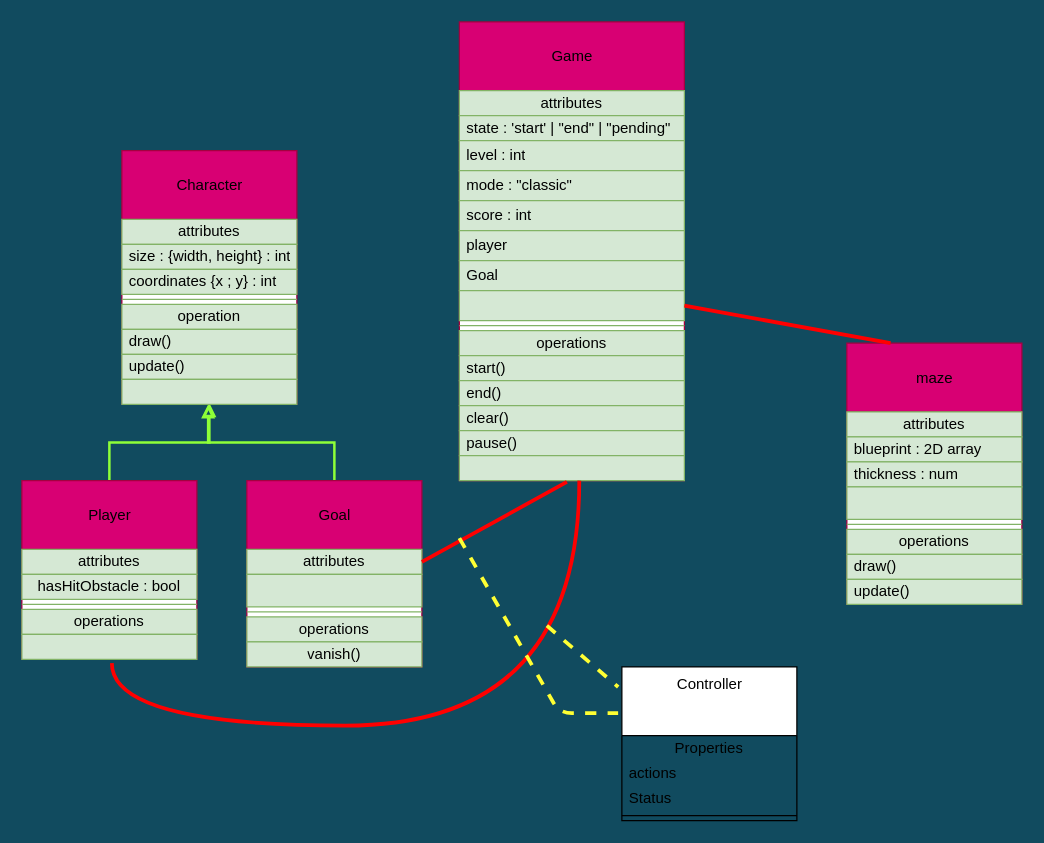
Some shapes in this 1044 by 843 pixel diagram are drawn without their labels. Each missing label, with the centre of its shape:
achieved : bool: the point at 334,590
maze : walls: the point at 571,305
move(): the point at 109,646
resume(): the point at 571,467
touched : bool: the point at 934,502
